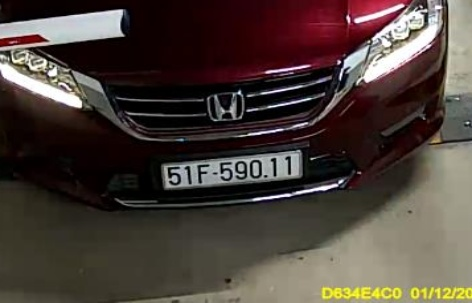plate: (156, 148, 302, 190)
